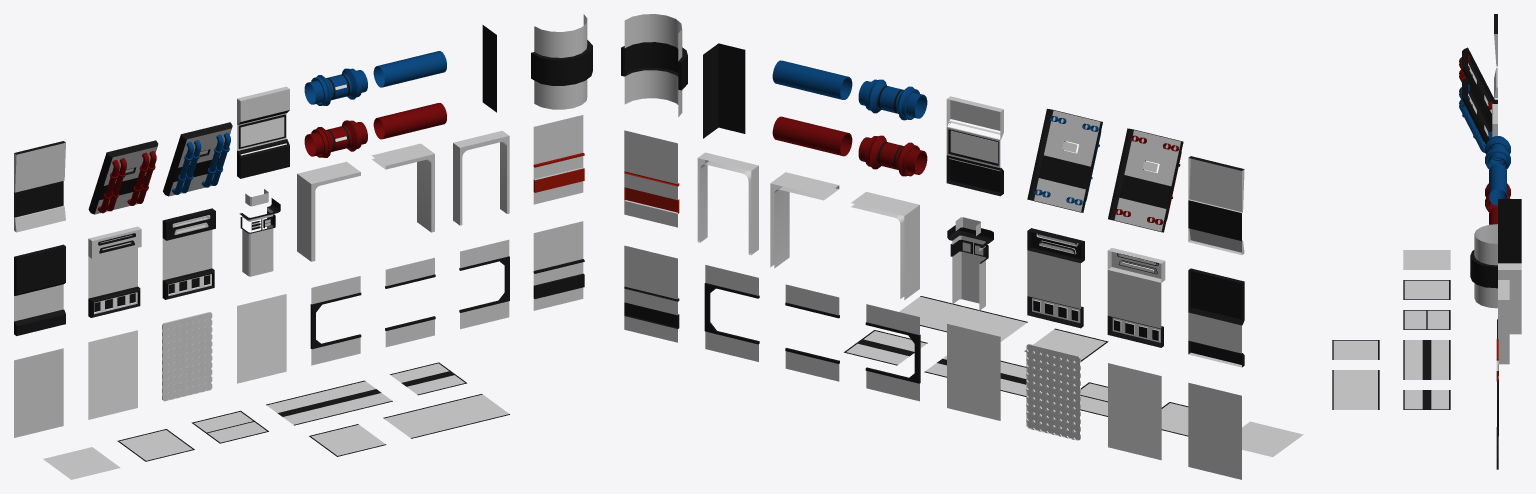
The model's file is LabModular.fbx.
The picture shows the model from 3 angles, left to right: view 1: azimuth 30°, elevation 25°; view 2: azimuth 150°, elevation 25°; view 3: azimuth 270°, elevation 25°; orthographic projection. The views are drawn at different scales.
Parts seen in each view (by area): view 1: CurveWall, MonitorWall, Wall3, Wall5, Wall4, Wall7, Wall6, Wall2, LabWall, Wall, Glass, BlackGlass (+21 smaller); view 2: RedUPWall, BlueUPWall, CurveWall, Wall5, Wall3, Wall4, Wall7, MonitorWall, LabWall, Wall2, Wall6, Wall (+21 smaller); view 3: CurveWall, Floor5, Floor3, Pillar, BlueUPWall, BigDoorFrame.001, RedUPWall, DoorFrame, Floor2, Floor1, Floor6, Floor7 (+4 smaller).
Boxes of the visible parts, x1,y1,x2,y2 form: CurveWall: (531, 14, 592, 109); MonitorWall: (237, 86, 289, 178); Wall3: (162, 208, 215, 299); Wall5: (88, 226, 141, 317); Wall4: (14, 244, 65, 335); Wall7: (14, 141, 65, 232); Wall6: (533, 115, 584, 204); Wall2: (533, 221, 584, 310); LabWall: (162, 312, 212, 401); Wall: (14, 348, 63, 437); Glass: (88, 330, 137, 419); BlackGlass: (237, 294, 286, 383); RedUPWall: (1108, 128, 1183, 232); BlueUPWall: (1027, 109, 1102, 212); CurveWall: (621, 14, 687, 117); Wall5: (1107, 248, 1165, 347); Wall3: (1027, 228, 1084, 328); Wall4: (1188, 268, 1244, 367); Wall7: (1188, 156, 1244, 255); MonitorWall: (946, 96, 1003, 196); LabWall: (1026, 344, 1080, 440); Wall2: (624, 245, 679, 342); Wall6: (624, 130, 679, 227); Wall: (1188, 382, 1241, 479); CurveWall: (1470, 224, 1497, 308); Floor5: (1403, 340, 1450, 379); Floor3: (1332, 370, 1379, 409); Pillar: (1498, 199, 1521, 263); BlueUPWall: (1459, 77, 1492, 152); BigDoorFrame.001: (1498, 263, 1521, 334); RedUPWall: (1459, 47, 1496, 124); DoorFrame: (1498, 280, 1509, 364); Floor2: (1403, 310, 1450, 329); Floor1: (1403, 280, 1450, 299); Floor6: (1403, 250, 1450, 269); Floor7: (1403, 390, 1450, 409).
Bounding box in the file's own units: 2313 × 1106 × 800.
